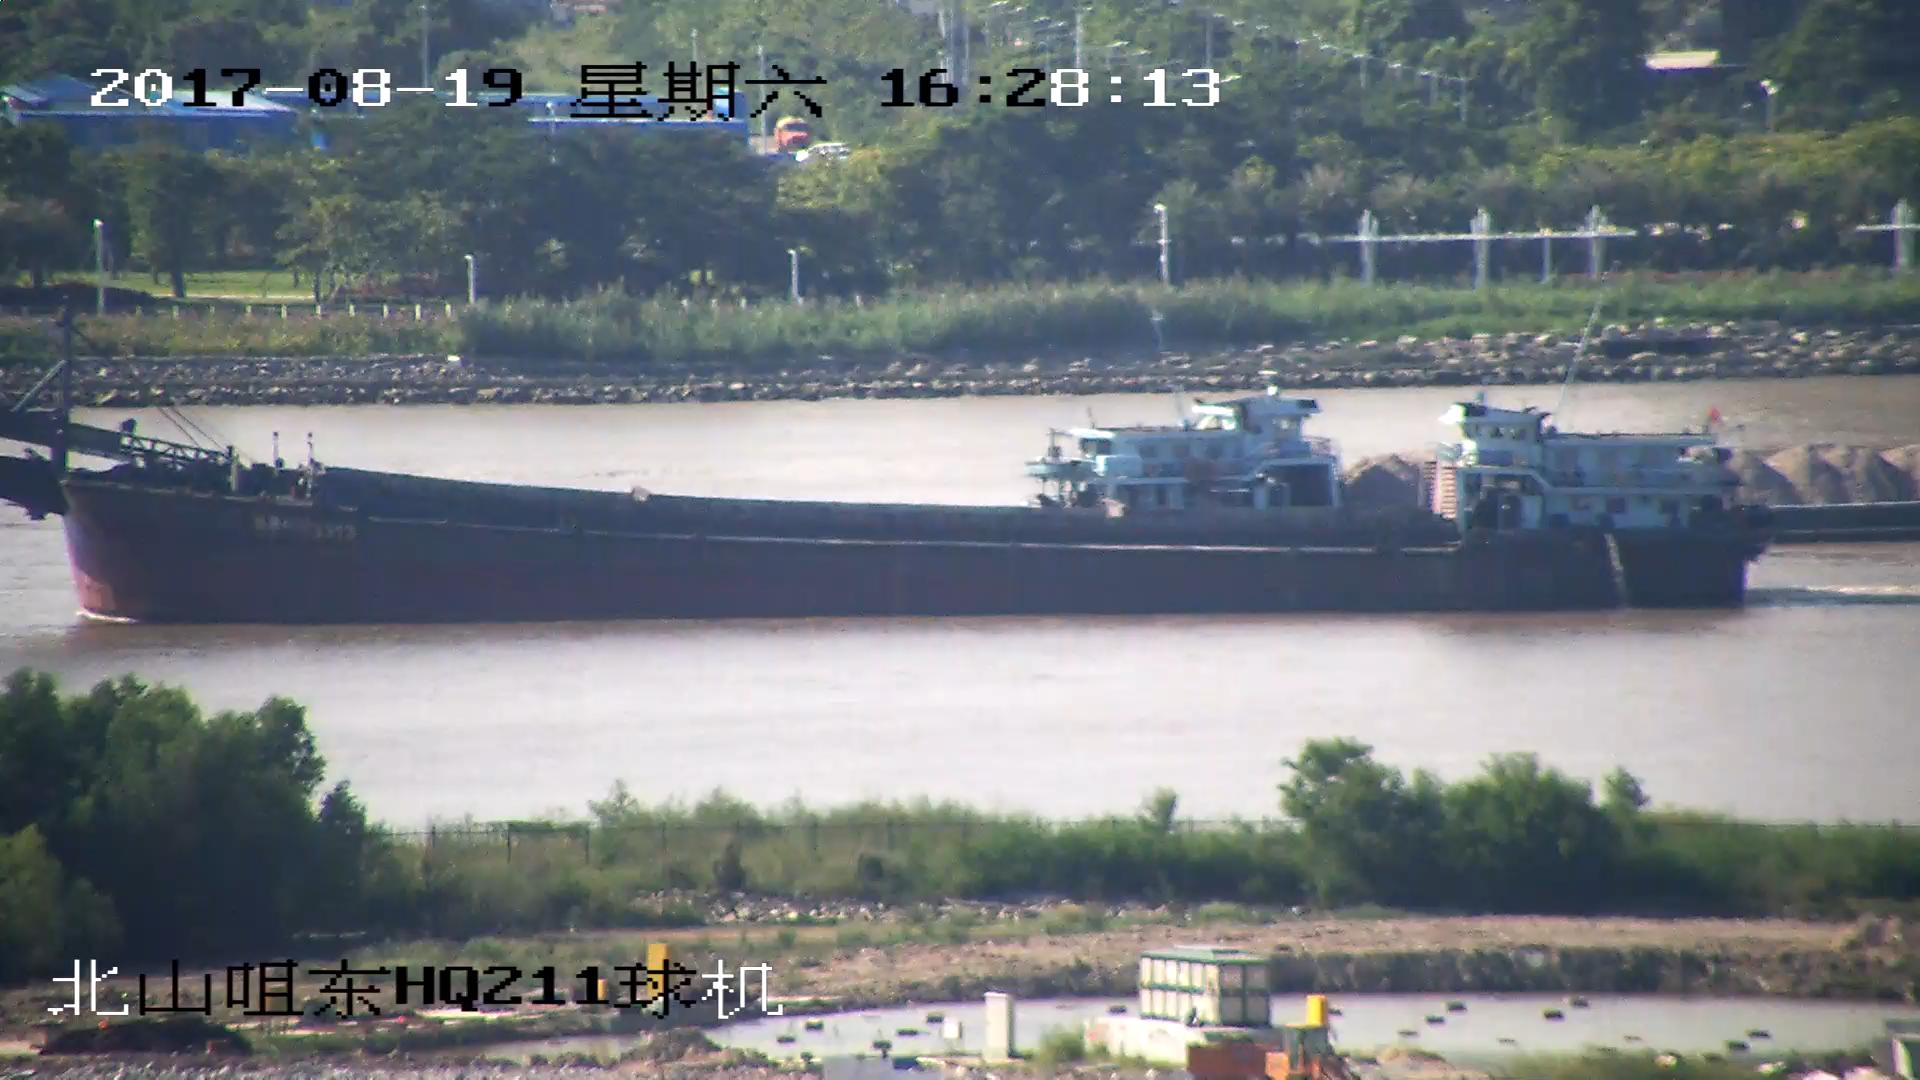bulk cargo carrier: (1, 338, 1769, 615)
ore carrier: (1030, 408, 1920, 553)
